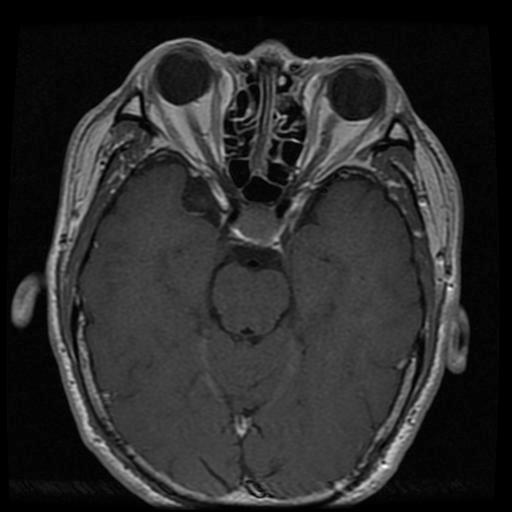Tumour-Pituitary: (219, 202, 289, 255)
